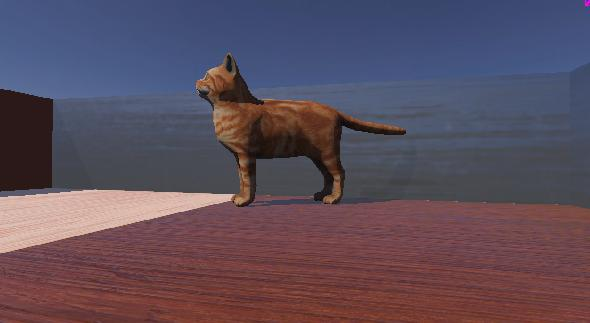Cat: (183, 50, 418, 212)
